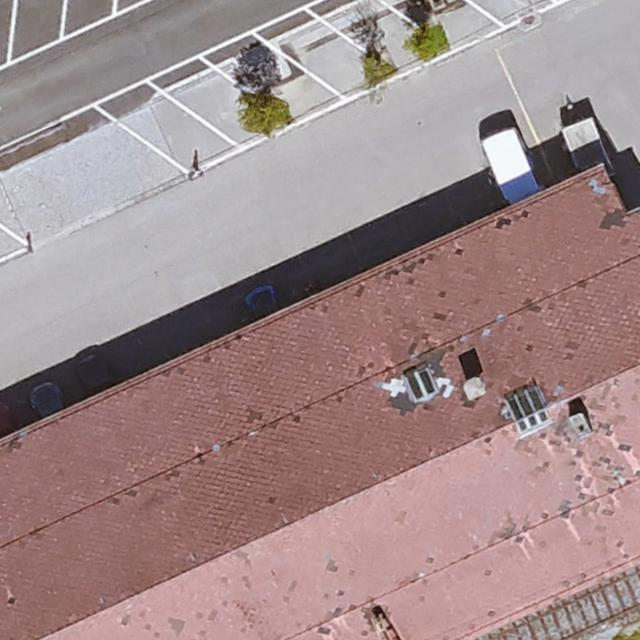tree: (240, 92, 289, 134), (414, 33, 443, 55), (364, 61, 389, 84)
